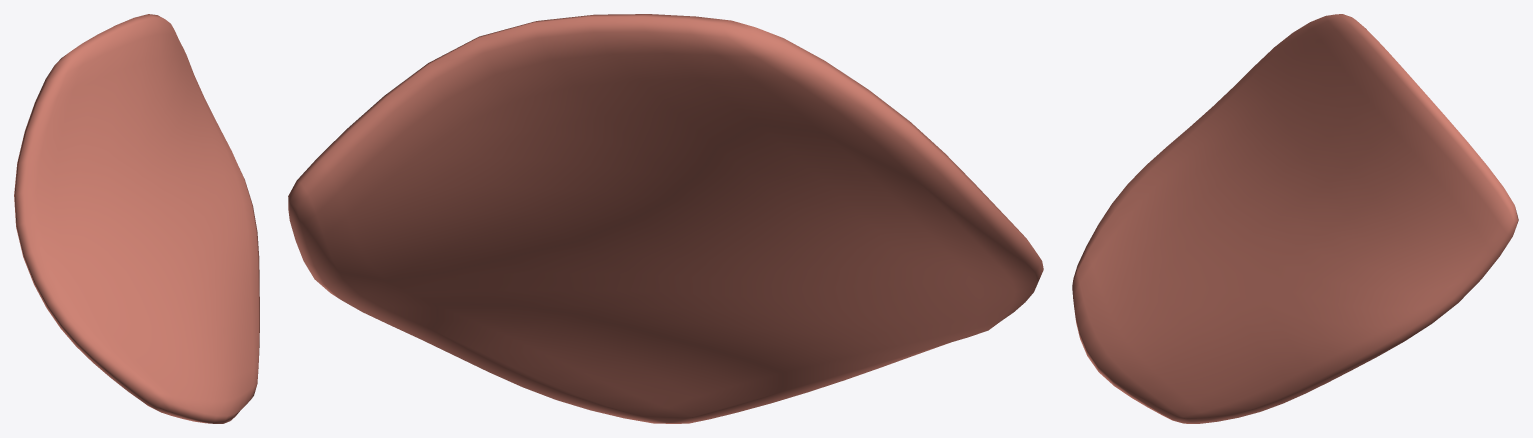
3 renders of one model, left to right at view 1: azimuth 30°, elevation 25°; view 2: azimuth 150°, elevation 25°; view 3: azimuth 270°, elevation 25°, orthographic. The views are drawn at different scales.
Visible parts, largest first — view 1: 左侧腓肠肌外侧头腱下囊; view 2: 左侧腓肠肌外侧头腱下囊; view 3: 左侧腓肠肌外侧头腱下囊.
Boxes of the visible parts, <box> form: 左侧腓肠肌外侧头腱下囊: <box>14,14,259,423</box>; 左侧腓肠肌外侧头腱下囊: <box>288,14,1043,423</box>; 左侧腓肠肌外侧头腱下囊: <box>1072,14,1518,423</box>.
Size of the model in its own units: 0.0225 by 0.0225 by 0.0258.
